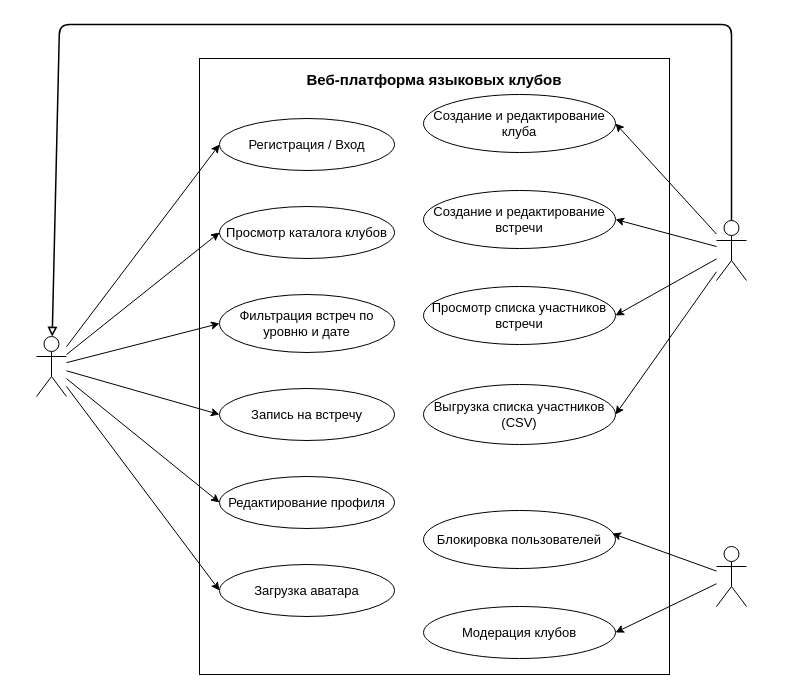
The diagram is 806 pixels wide and 693 high, and some of its shapes have lost their labels. Here are the shapes that lost their labels. From the top down, the centre of each, then its label:
At pixel 731 250: "Организатор".
At pixel 51 366: "Участник".
At pixel 731 576: "Администратор".
